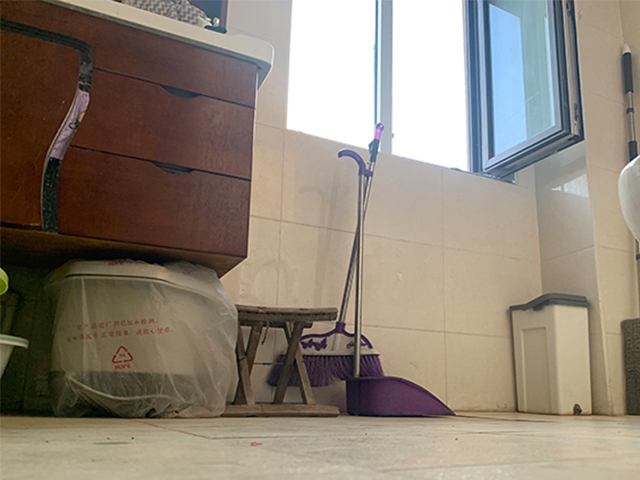stool: (225, 304, 342, 417)
trashcan: (509, 292, 594, 416)
